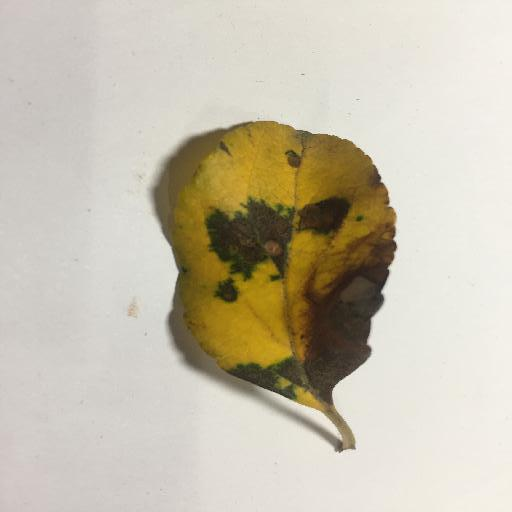Brown_Spot: (305, 230, 380, 391), (215, 200, 293, 262), (297, 191, 341, 237), (281, 149, 303, 168)
